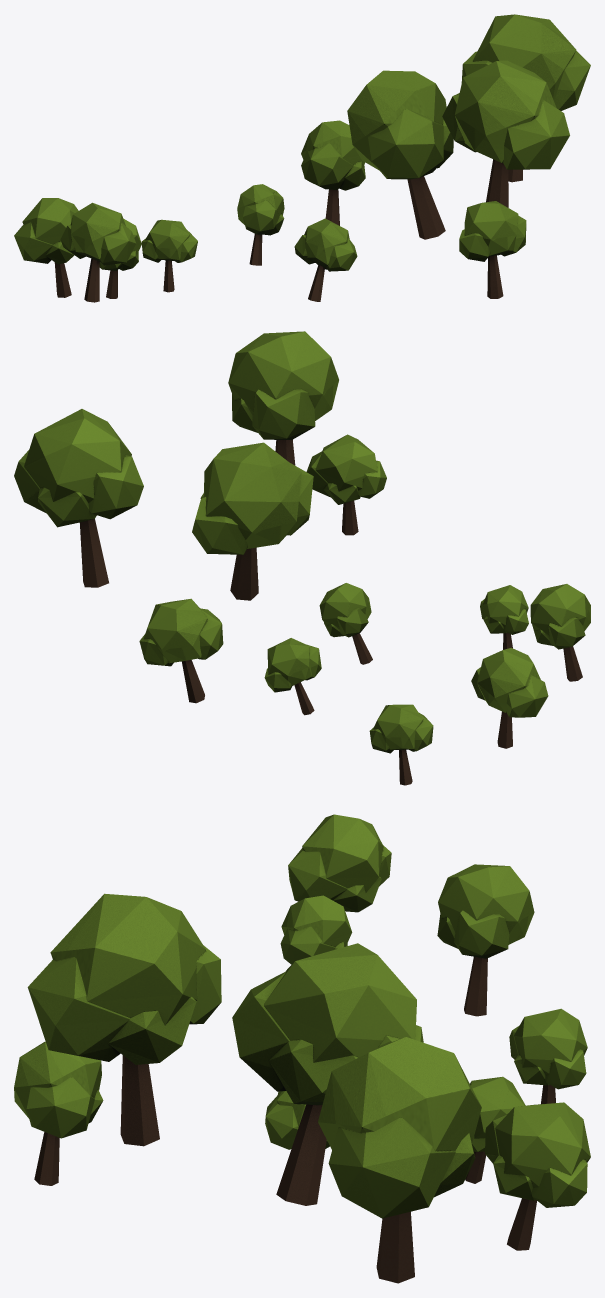
Rendered from trees_3.glb.
The picture shows the model from 3 angles, top to bottom: view 1: azimuth 30°, elevation 25°; view 2: azimuth 150°, elevation 25°; view 3: azimuth 270°, elevation 25°; orthographic projection. The views are drawn at different scales.
Visible parts, largest first — view 1: tree_2.027, tree_2.023, tree_2.031, tree_2.025, tree_2.032, tree_2.028, tree_2.030, tree_2.033, tree_2.029, tree_2.024, tree_2.026; view 2: tree_2.031, tree_2.023, tree_2.027, tree_2.025, tree_2.028, tree_2.030, tree_2.032, tree_2.026, tree_2.029, tree_2.033, tree_2.024; view 3: tree_2.027, tree_2.031, tree_2.023, tree_2.025, tree_2.030, tree_2.028, tree_2.032, tree_2.026, tree_2.024, tree_2.029, tree_2.033.
Part boxes in pixels (x1,y1,x2,y2): tree_2.027: (442, 60, 569, 207); tree_2.023: (347, 70, 453, 239); tree_2.031: (461, 14, 590, 182); tree_2.025: (301, 120, 365, 225); tree_2.032: (60, 202, 136, 302); tree_2.028: (459, 201, 526, 298); tree_2.030: (14, 198, 78, 297); tree_2.033: (294, 218, 357, 301); tree_2.029: (237, 184, 284, 265); tree_2.024: (141, 219, 197, 292); tree_2.026: (99, 218, 141, 298); tree_2.031: (14, 409, 143, 587); tree_2.023: (192, 442, 313, 600); tree_2.027: (228, 331, 338, 465); tree_2.025: (139, 598, 223, 703); tree_2.028: (306, 434, 386, 535); tree_2.030: (471, 647, 548, 748); tree_2.032: (530, 584, 590, 681); tree_2.026: (369, 704, 433, 785); tree_2.029: (264, 638, 321, 715); tree_2.033: (319, 583, 372, 664); tree_2.024: (480, 585, 528, 649); tree_2.027: (27, 893, 221, 1146); tree_2.031: (318, 1037, 481, 1283); tree_2.023: (232, 943, 423, 1205); tree_2.025: (485, 1102, 590, 1250); tree_2.030: (437, 864, 534, 1016); tree_2.028: (14, 1041, 103, 1185); tree_2.032: (288, 814, 391, 912); tree_2.026: (509, 1008, 587, 1104); tree_2.024: (280, 895, 352, 964); tree_2.029: (465, 1076, 525, 1183); tree_2.033: (265, 1091, 329, 1149).
Bounding box in the file's own units: 1.49 × 0.7279 × 0.9211.
2 materials, 2 textured.
